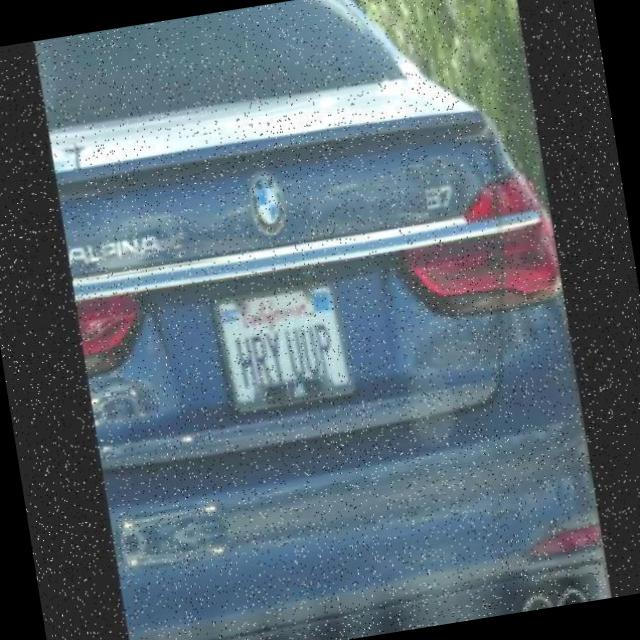LicensePlate: (216, 276, 352, 413)
